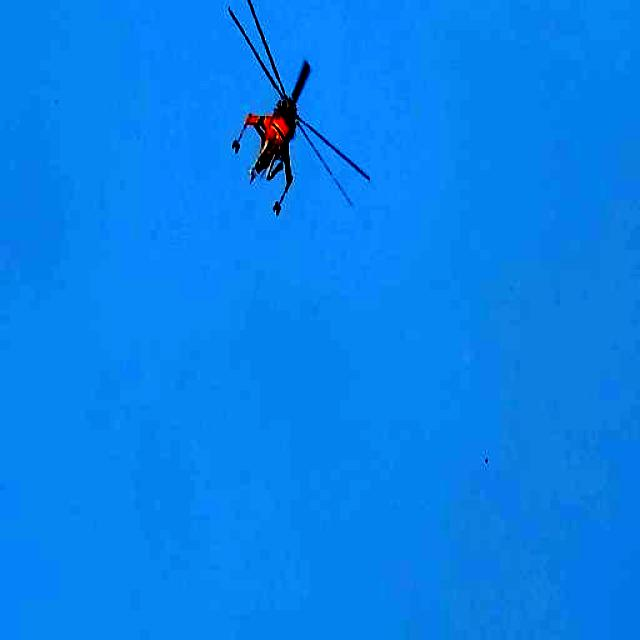drone: (202, 0, 365, 224)
